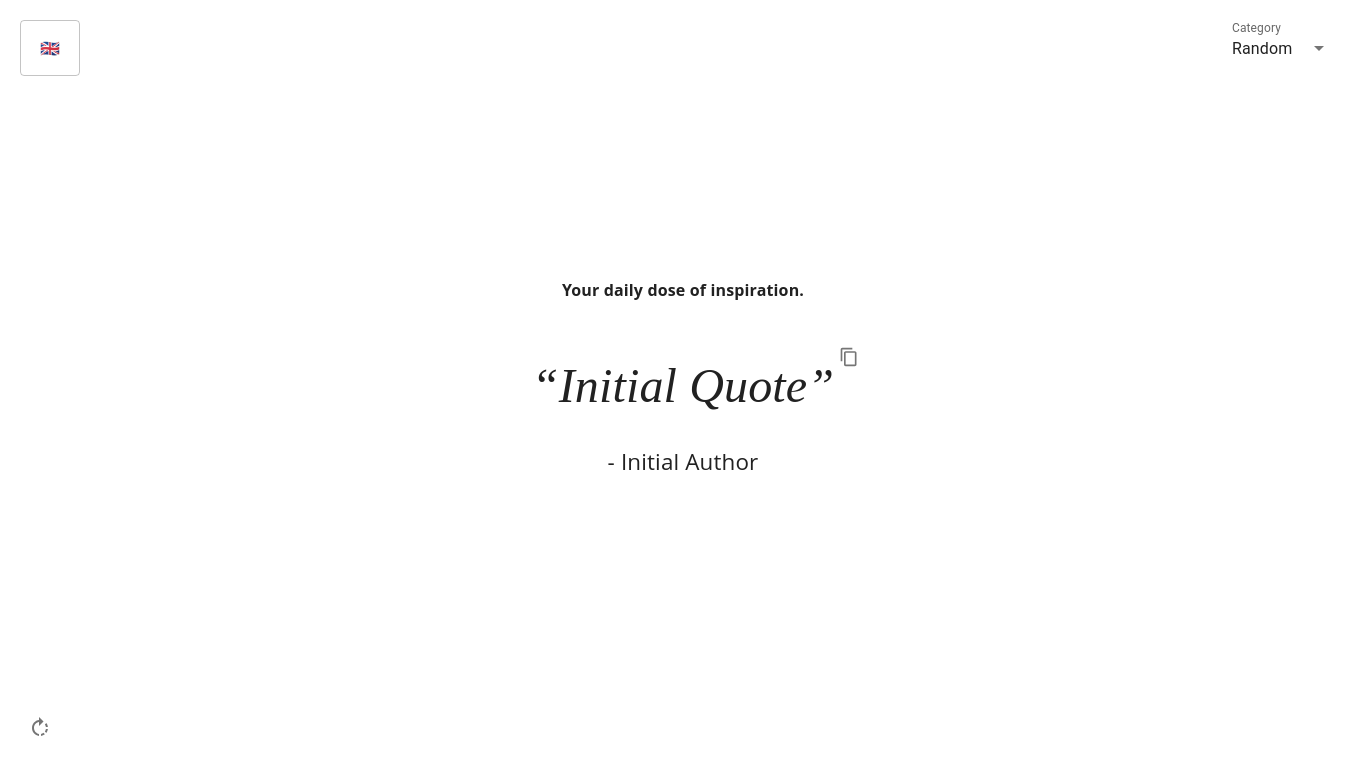
Test case: HomePage › Category component › On category change, fetches a new quote
This screenshot has width=1366, height=768.
Expected: the text "“Initial Quote”" is shown, left=532, top=350, right=834, bottom=422
Expected: the text "- Initial Author" is shown, left=608, top=446, right=758, bottom=476
Press the mouse on the dropdown labelled "Random" at (1262,48), box left=1232, top=38, right=1292, bottom=58
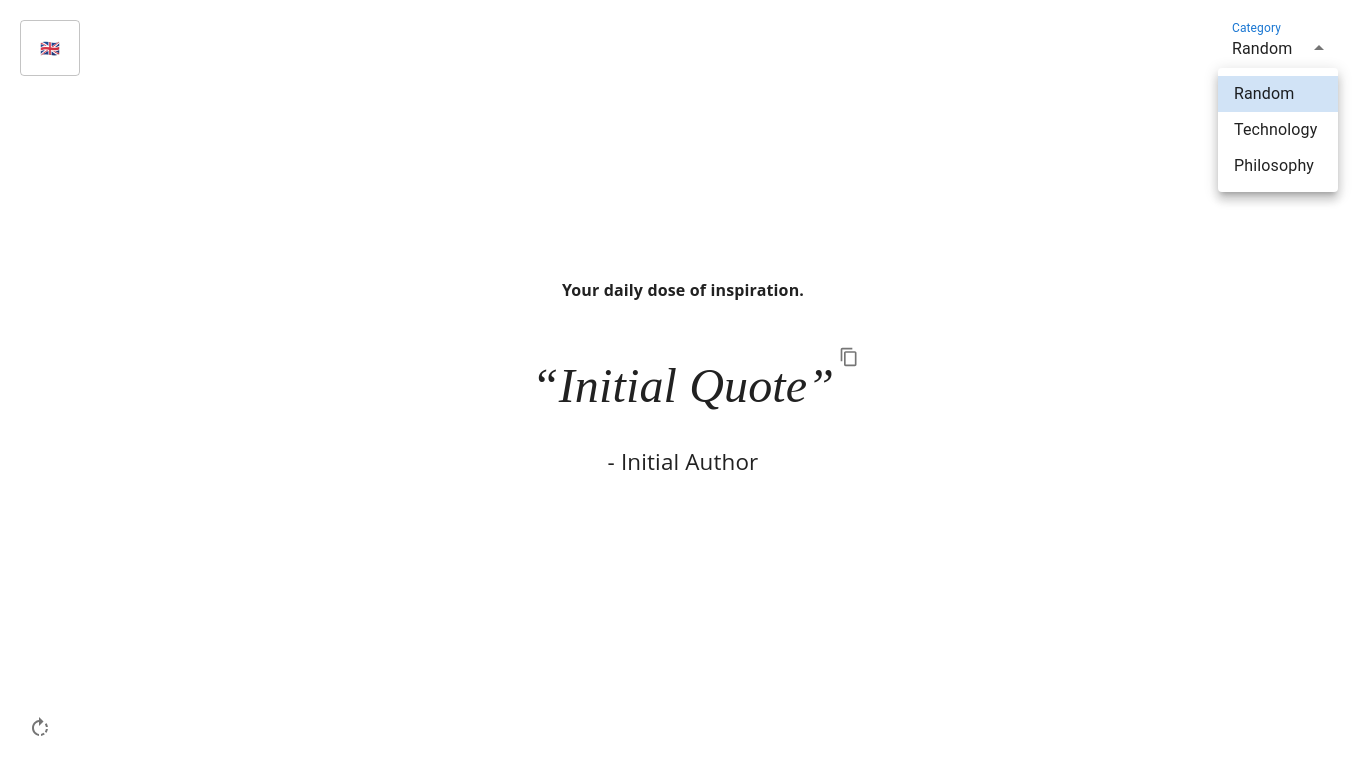
Click the option "Philosophy" at (1274,166), box left=1234, top=156, right=1314, bottom=175
Wait 5000 ms
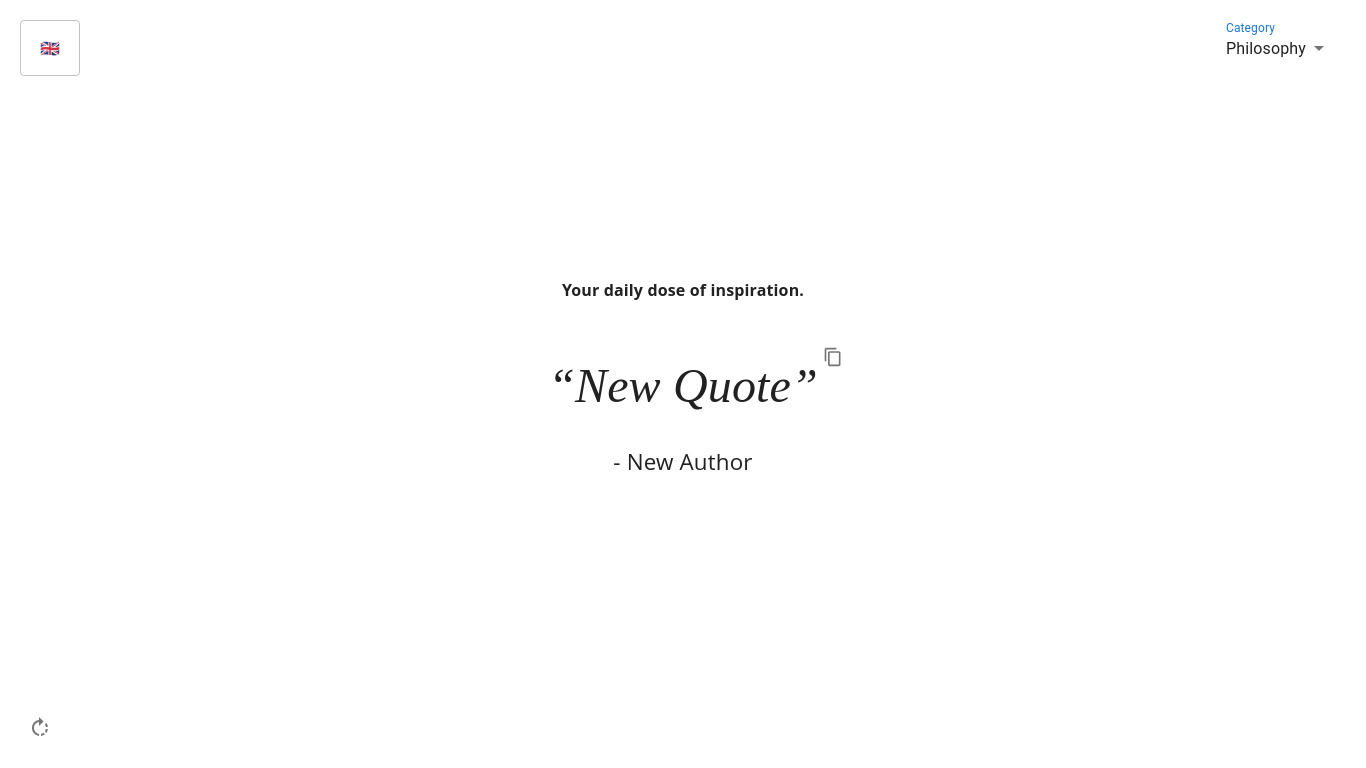
Expected: the text "“New Quote”" is shown, left=548, top=350, right=818, bottom=422
Expected: the text "- New Author" is shown, left=613, top=446, right=753, bottom=476
